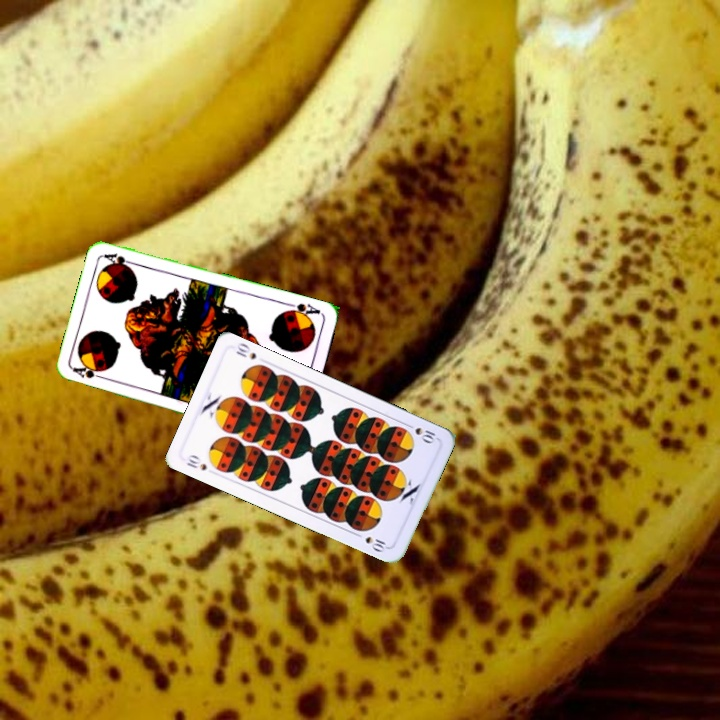S10: (400, 419, 440, 446), (182, 451, 209, 473)
SA: (282, 299, 323, 321), (69, 363, 109, 382)
